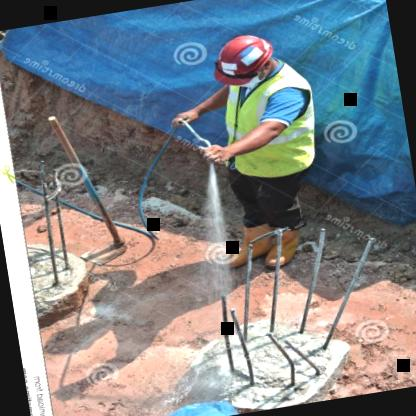helmet: (210, 29, 281, 86)
